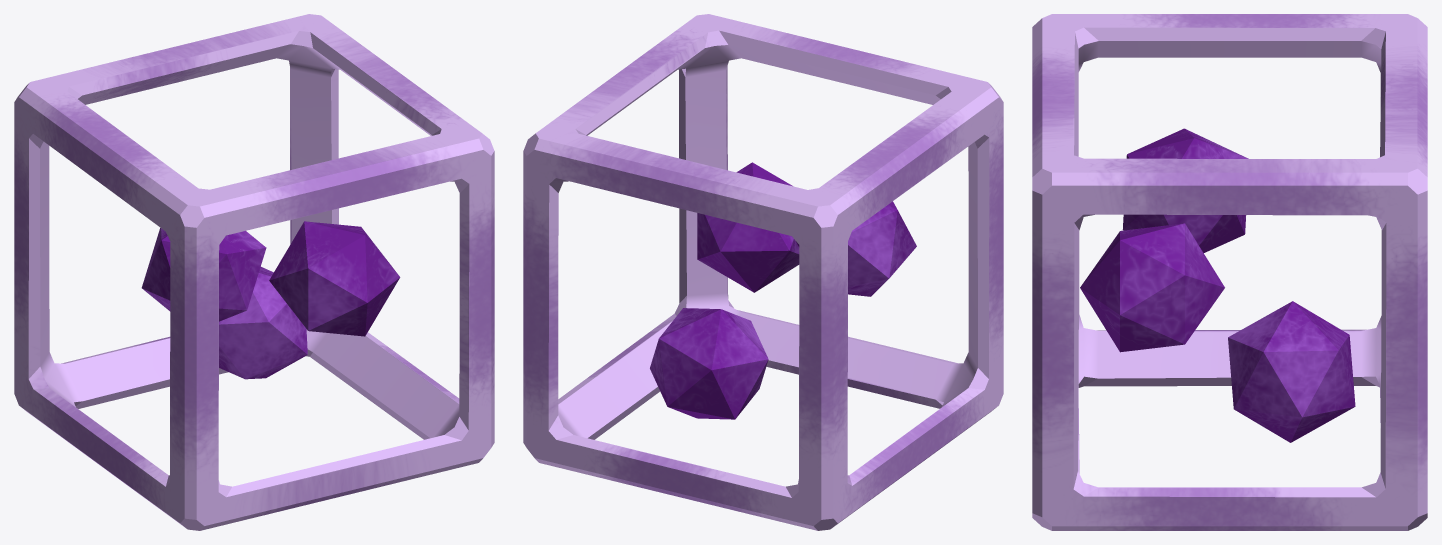
The model's file is multishot.fbx.
3 renders of one model, left to right at view 1: azimuth 30°, elevation 25°; view 2: azimuth 150°, elevation 25°; view 3: azimuth 270°, elevation 25°, orthographic. The views are drawn at different scales.
Visible parts, largest first — view 1: pPlatonic5; view 2: pPlatonic5; view 3: pPlatonic5.
Boxes of the visible parts, bbox=[...] form: pPlatonic5: bbox=[14, 14, 494, 530]; pPlatonic5: bbox=[523, 14, 1003, 530]; pPlatonic5: bbox=[1032, 14, 1427, 530].
Size of the model in its own units: 2.97 by 2.97 by 2.97.
Materials: 1 (1 with a texture image).
